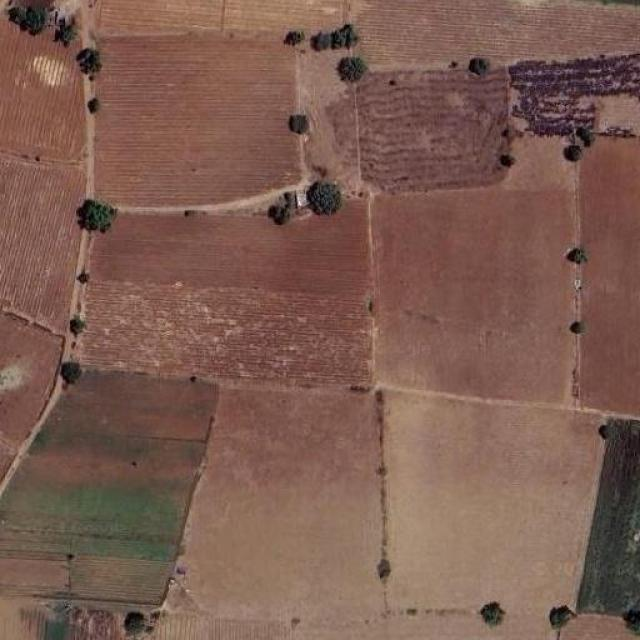land-Sx1C: (0, 371, 218, 604), (382, 389, 604, 614), (180, 384, 384, 619), (372, 170, 576, 403), (98, 36, 300, 206), (84, 284, 371, 384), (94, 201, 366, 292), (359, 0, 640, 67), (358, 68, 508, 191), (580, 136, 640, 414), (509, 52, 640, 162), (0, 158, 84, 329), (150, 611, 640, 639), (0, 18, 85, 161), (579, 420, 640, 615), (1, 311, 64, 481), (101, 0, 342, 38), (0, 597, 131, 640), (561, 614, 640, 639)
